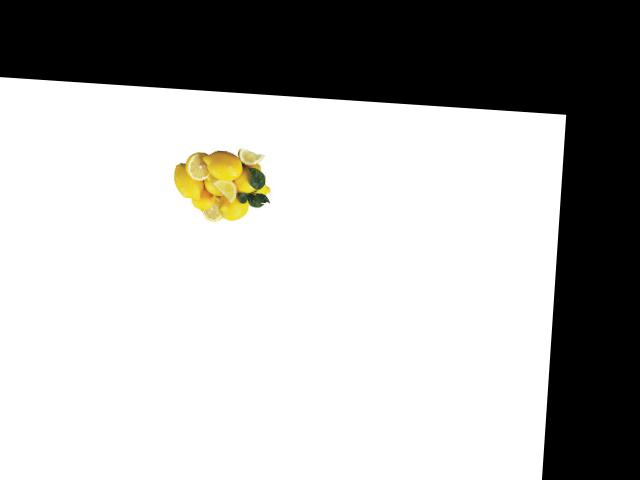lemon: (229, 161, 263, 194)
